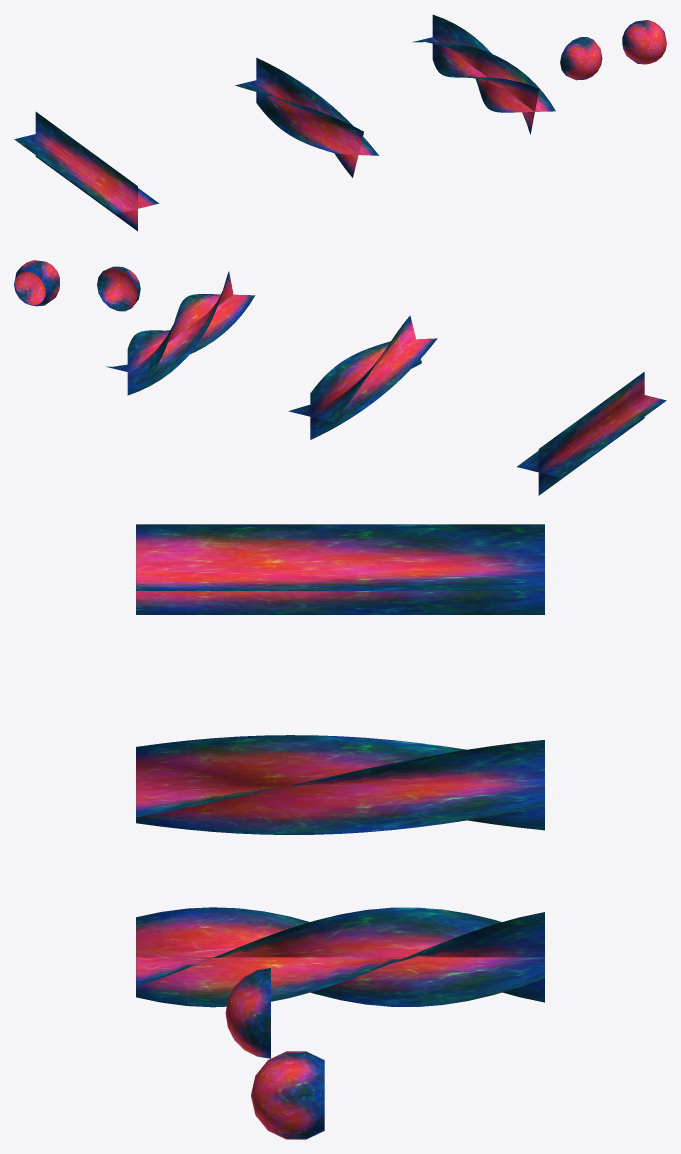
The model's file is luchuangchuang.fbx.
The picture shows the model from 3 angles, top to bottom: view 1: azimuth 30°, elevation 25°; view 2: azimuth 150°, elevation 25°; view 3: azimuth 270°, elevation 25°; orthographic projection. The views are drawn at different scales.
Visible parts, largest first — view 1: pPlane9, pPlane8, pPlane10, pSphere11, pSphere5; view 2: pPlane9, pPlane8, pPlane10, pSphere11, pSphere5; view 3: pPlane10, pPlane9, pPlane8, pSphere11, pSphere5.
Boxes of the visible parts, left/top/right/bottom form: pPlane9: left=235, top=57, right=378, bottom=177; pPlane8: left=412, top=14, right=555, bottom=134; pPlane10: left=14, top=112, right=158, bottom=231; pSphere11: left=622, top=20, right=666, bottom=64; pSphere5: left=560, top=37, right=602, bottom=80; pPlane9: left=288, top=315, right=437, bottom=439; pPlane8: left=106, top=271, right=255, bottom=395; pPlane10: left=517, top=372, right=666, bottom=495; pSphere11: left=14, top=260, right=59, bottom=306; pSphere5: left=97, top=266, right=140, bottom=311; pPlane10: left=136, top=524, right=544, bottom=614; pPlane9: left=136, top=735, right=544, bottom=834; pPlane8: left=136, top=907, right=544, bottom=1007; pSphere11: left=251, top=1051, right=324, bottom=1139; pSphere5: left=225, top=968, right=270, bottom=1058.
Bounding box in the file's own units: 29.86 × 2.6 × 9.
